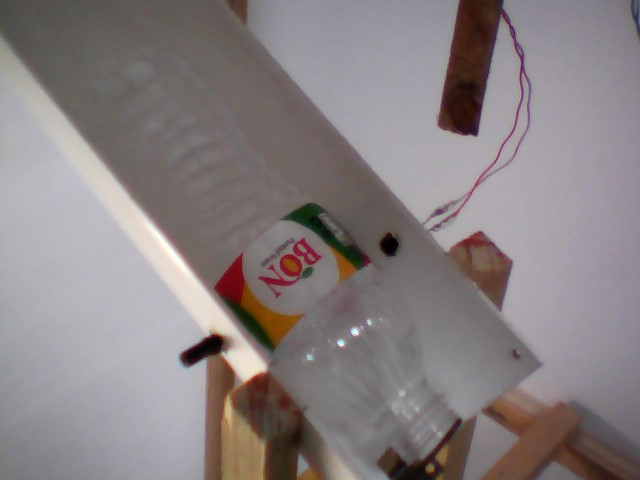plastico: (66, 39, 473, 465)
